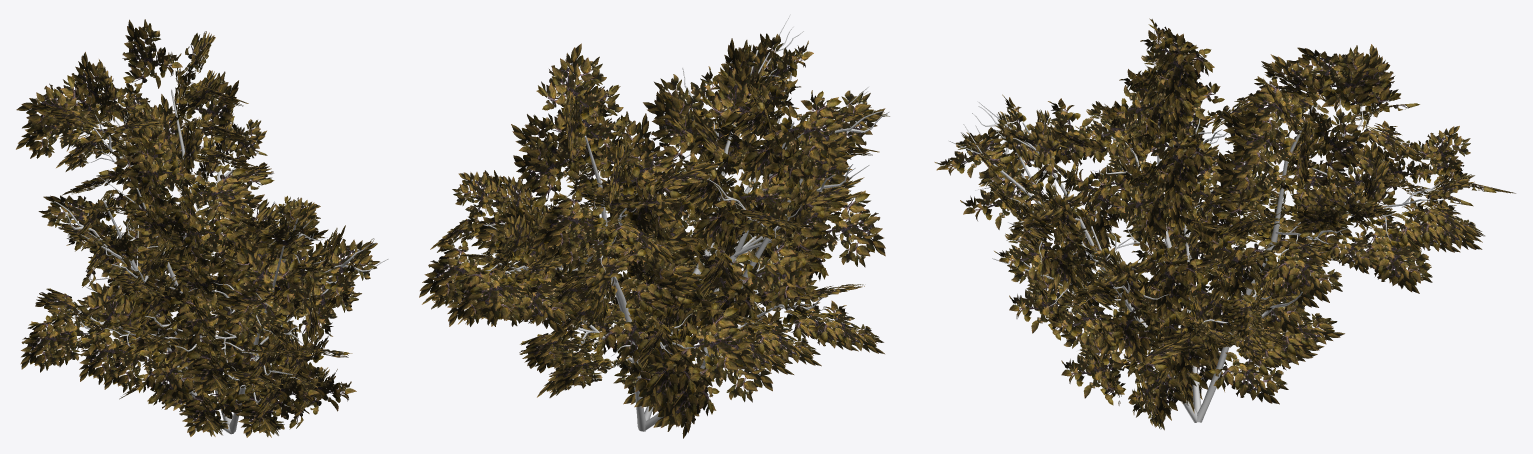
Rendered from shrub_hazel_01_autumn.DAE.
The picture shows the model from 3 angles, left to right: view 1: azimuth 30°, elevation 25°; view 2: azimuth 150°, elevation 25°; view 3: azimuth 270°, elevation 25°; orthographic projection. The views are drawn at different scales.
Parts seen in each view (by area): view 1: Object169, shrub_hazel01_CommonHazelBark; view 2: Object169, shrub_hazel01_CommonHazelBark; view 3: Object169, shrub_hazel01_CommonHazelBark.
Boxes of the visible parts, <box> form: Object169: <box>16,19,379,437</box>; shrub_hazel01_CommonHazelBark: <box>54,89,388,434</box>; Object169: <box>419,33,889,438</box>; shrub_hazel01_CommonHazelBark: <box>481,14,889,431</box>; Object169: <box>934,18,1515,430</box>; shrub_hazel01_CommonHazelBark: <box>949,29,1449,422</box>.
Bounding box in the file's own units: 1.95 × 2.07 × 2.89.
